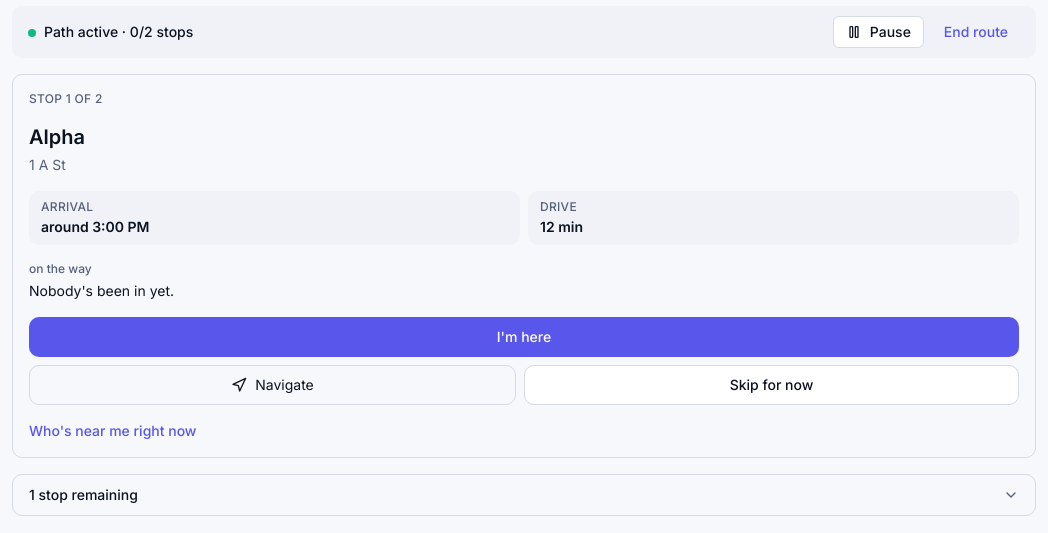
Scenario: RunningPath — driving carousel › Skip for now resolves the current card so the next one shows
Check: the text "Stop 1 of 2" is shown, box [29,91,103,106]
Step 1. Click the button "Skip for now" → click(772, 385), box [524,365,1019,405]
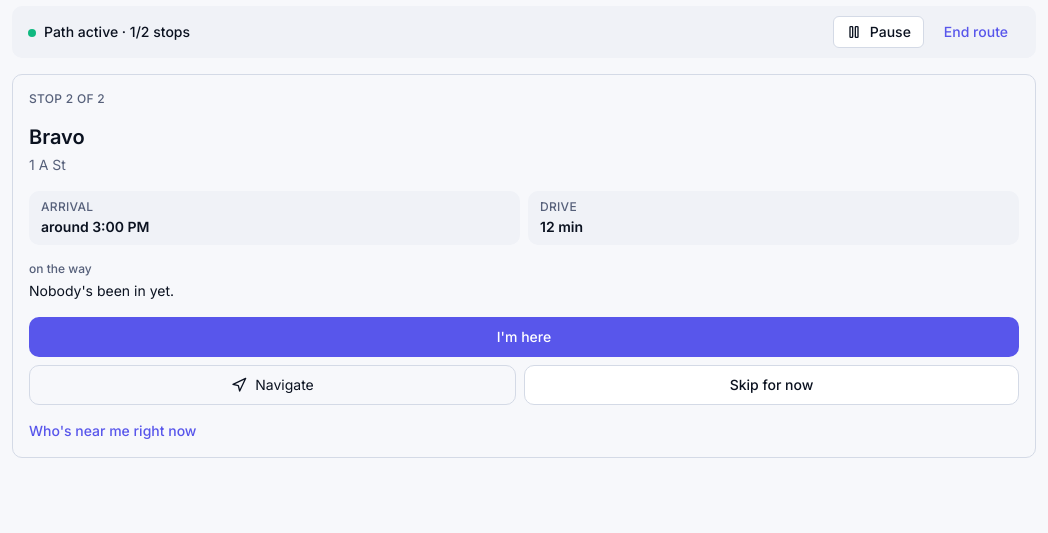
Check: the heading "Bravo" is shown, box [29,125,85,149]
Check: the text "Stop 2 of 2" is shown, box [29,91,105,106]
Check: the heading "Alpha" is gone
